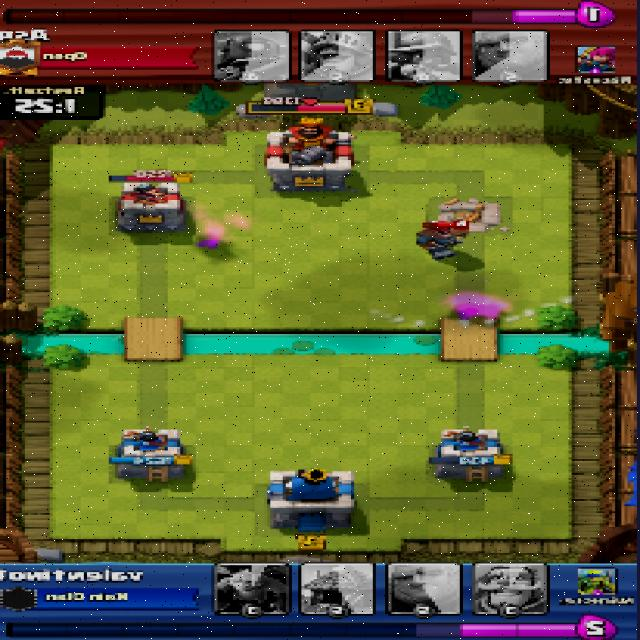Enemy-Hunter: (416, 224, 471, 259)
